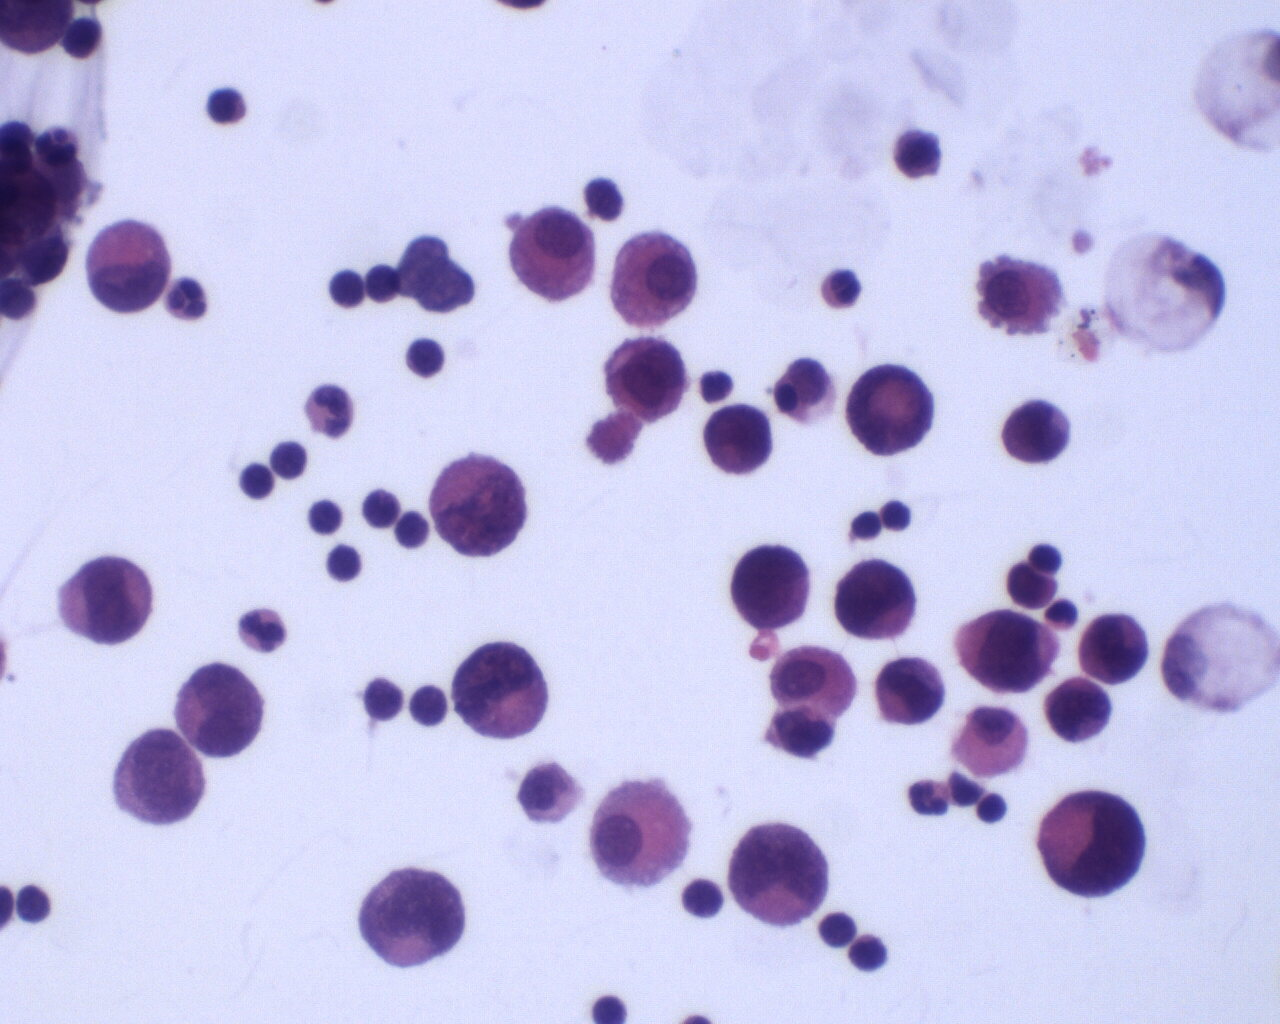ab: (1034, 788, 1150, 900), (353, 864, 465, 971), (726, 820, 831, 930), (427, 453, 533, 558), (54, 546, 155, 651), (453, 639, 551, 745), (106, 723, 206, 824), (955, 605, 1062, 699), (172, 661, 265, 761), (86, 214, 174, 316), (730, 538, 816, 633), (834, 555, 921, 644), (605, 335, 691, 423), (697, 400, 773, 476), (1076, 610, 1151, 686), (874, 655, 946, 731), (999, 397, 1073, 467), (1045, 675, 1116, 746)
histo: (1106, 227, 1224, 355), (1162, 600, 1280, 717)
lymph: (205, 85, 253, 129), (238, 459, 279, 502), (304, 496, 346, 536)
meso: (587, 777, 692, 885), (505, 205, 597, 304), (612, 230, 701, 331), (768, 639, 860, 719)
neutro: (302, 375, 359, 439), (236, 602, 295, 657), (162, 275, 209, 325), (902, 775, 953, 820), (821, 264, 865, 311)
